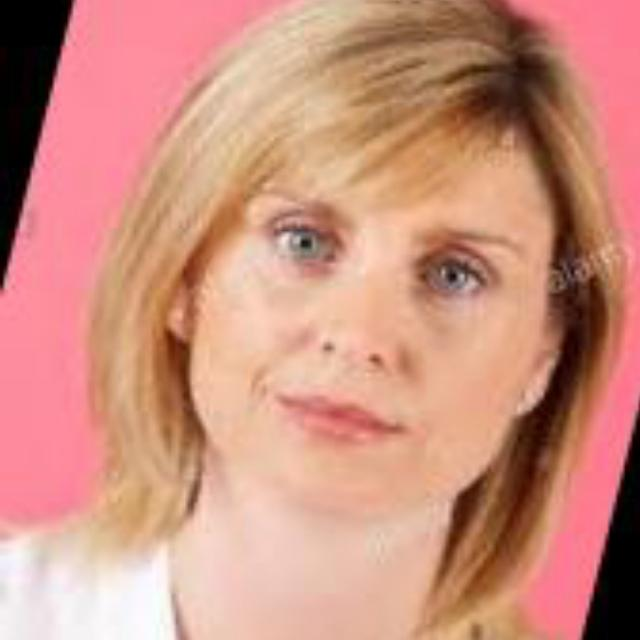Natural: (149, 108, 594, 549)
